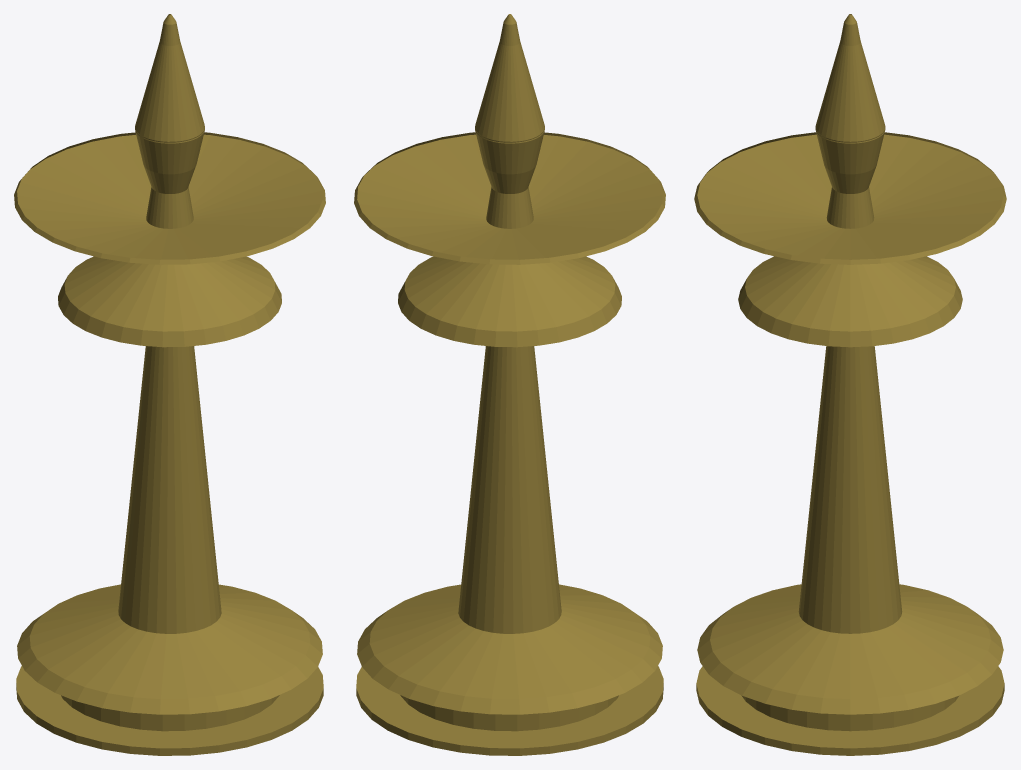
The model's file is artifact.glb.
The picture shows the model from 3 angles, left to right: view 1: azimuth 30°, elevation 25°; view 2: azimuth 150°, elevation 25°; view 3: azimuth 270°, elevation 25°; orthographic projection.
Parts seen in each view (by area): view 1: Circle_1; view 2: Circle_1; view 3: Circle_1.
Part boxes in pixels (box(x1,y1,x2,y2)): Circle_1: box(14, 14, 325, 755); Circle_1: box(354, 14, 665, 755); Circle_1: box(694, 14, 1006, 755).
Size of the model in its own units: 2.03 by 4.84 by 2.03.
